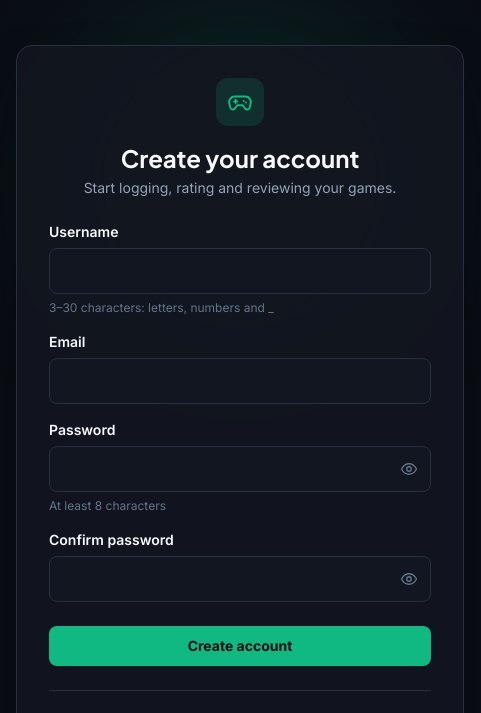
Test: RegisterView › does not send the form when the passwords do not match
The image size is (481, 713).
In the field labelled "Username": {"x": 240, "y": 271} [49,248,431,294], type "new_player"
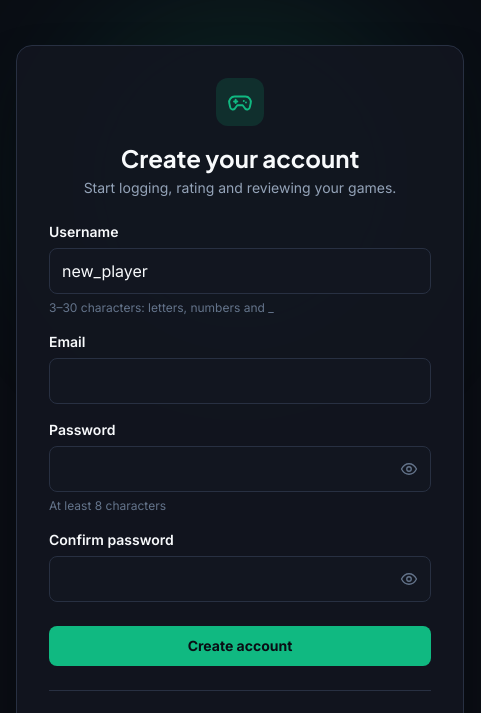
In the field labelled "Email": {"x": 240, "y": 381} [49,358,431,404], type "player@mail.com"
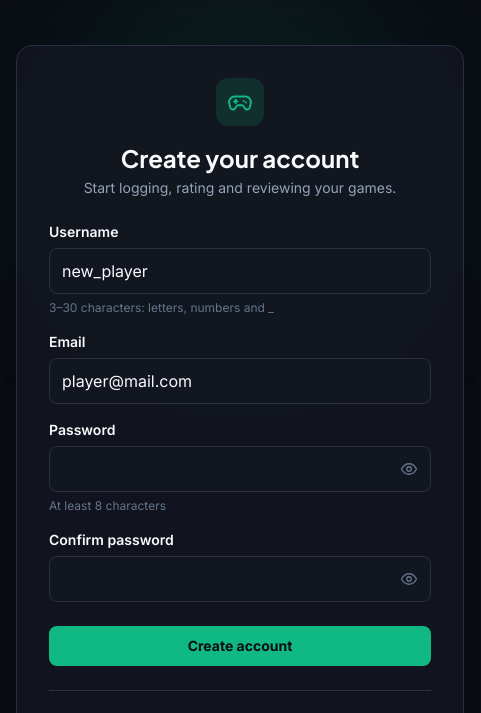
In the password field labelled "Password": {"x": 240, "y": 469} [49,446,431,492], type "secret123"
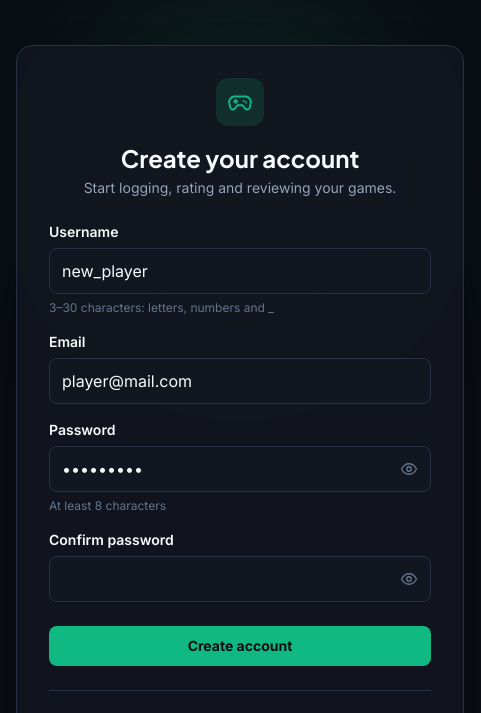
In the password field labelled "Confirm password": {"x": 240, "y": 579} [49,556,431,602], type "different1"
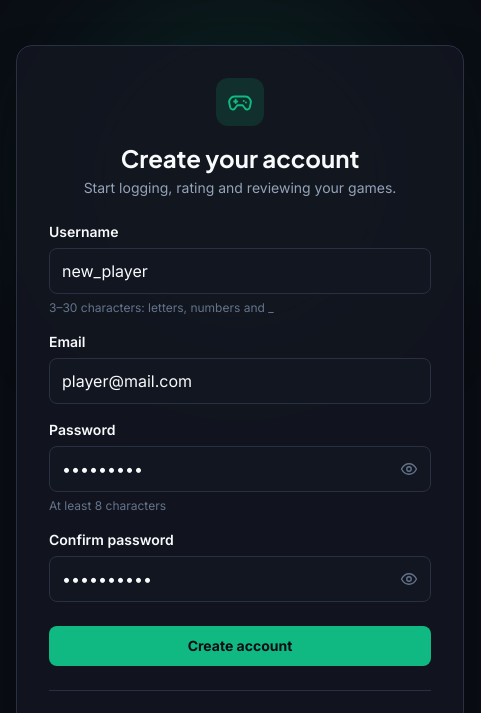
Submit the form, box [49,222,431,666]
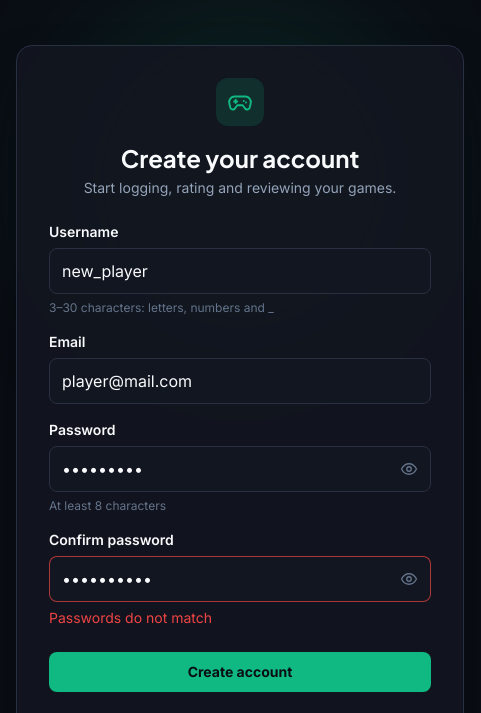
Expected: the text "Passwords do not match" is shown, [49,609,212,626]
